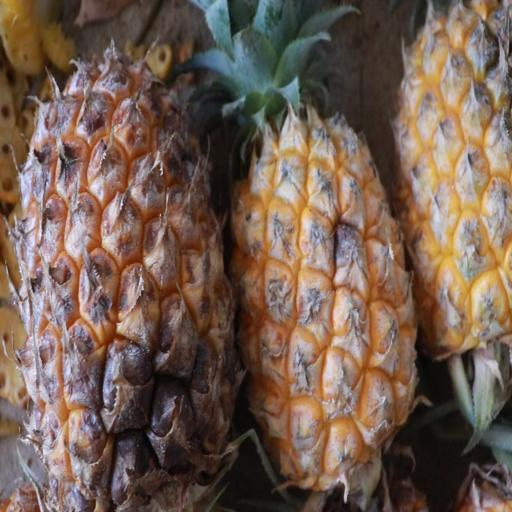Pineapple - v8 v1: (20, 34, 247, 509), (224, 30, 414, 491), (394, 4, 512, 365)
